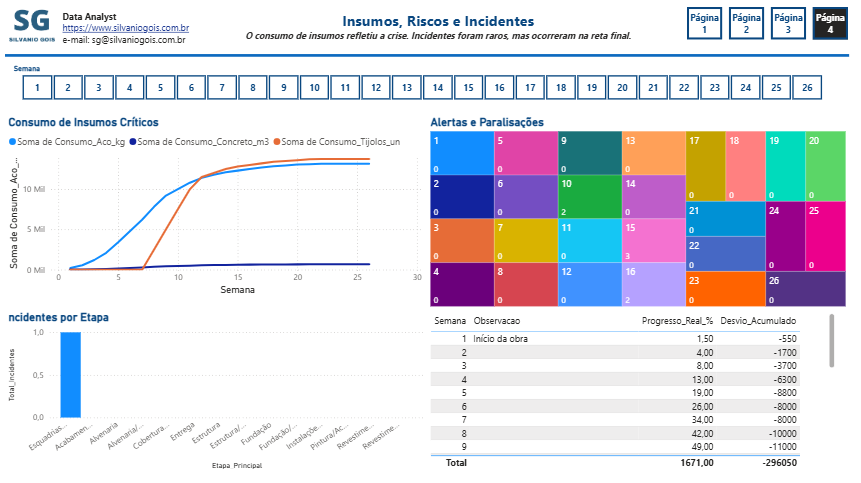

What the dashboard file says about the page in this screenshot:
{"tool":"powerbi","page":{"name":"Página 4","canvas":[1280,720],"ordinal":3},"visuals":[{"type":"image","box":[16,0,80,80],"z":0},{"type":"textbox","box":[96,16,208,64],"z":1000},{"type":"textbox","box":[304,0,704,80],"z":2000},{"type":"pageNavigator","box":[1024,16,240,48],"z":3000},{"type":"shape","box":[16,80,1248,16],"z":4000},{"type":"lineChart","title":"Consumo de Insumos Críticos","fields":{"Category":["Obra.Semana"],"Y":["Sum(Obra.Consumo_Aco_kg)","Sum(Obra.Consumo_Concreto_m3)","Sum(Obra.Consumo_Tijolos_un)"]},"box":[16,176,624,272],"z":5000},{"type":"columnChart","title":"ncidentes por Etapa","fields":{"Category":["Obra.Etapa_Principal"],"Y":["Medidas_Pag4.Total_Incidentes"]},"box":[16,464,624,240],"z":6000},{"type":"treemap","title":"Alertas e Paralisações","fields":{"Group":["Obra.Semana"],"Values":["CountNonNull(Obra.Falta_Material)"],"Details":["Obra.Dias_Chuva_Semana"]},"box":[640,176,624,288],"z":7000},{"type":"tableEx","fields":{"Values":["Obra.Semana","Obra.Observacao","Sum(Obra.Progresso_Real_%)","Medidas_Pag1.Desvio_Acumulado"]},"box":[640,464,608,240],"z":8000},{"type":"slicer","fields":{"Values":["Obra.Semana"]},"box":[16,96,1232,64],"z":9000}]}

Visuals, with their boxes in screenshot pixels (x1, y1, x2, y2), scaled from the page's 1280x720 canvas onto the 861x483 screenshot:
image: crop(11, 0, 65, 54)
textbox: crop(65, 11, 204, 54)
textbox: crop(204, 0, 678, 54)
pageNavigator: crop(689, 11, 850, 43)
shape: crop(11, 54, 850, 64)
"Consumo de Insumos Críticos" lineChart: crop(11, 118, 430, 301)
"ncidentes por Etapa" columnChart: crop(11, 311, 430, 472)
"Alertas e Paralisações" treemap: crop(430, 118, 850, 311)
tableEx - Obra.Semana x Obra.Observacao: crop(430, 311, 839, 472)
slicer - Obra.Semana: crop(11, 64, 839, 107)
